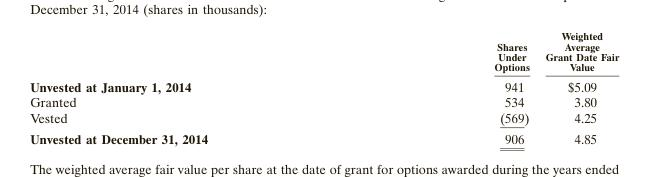table: (29, 29, 618, 145)
table column: (29, 29, 350, 145), (350, 29, 536, 145), (536, 29, 618, 145)
table column header: (29, 29, 618, 75)
table row: (29, 29, 618, 75), (29, 75, 618, 94), (29, 109, 618, 127), (29, 127, 618, 145), (29, 94, 618, 109)
